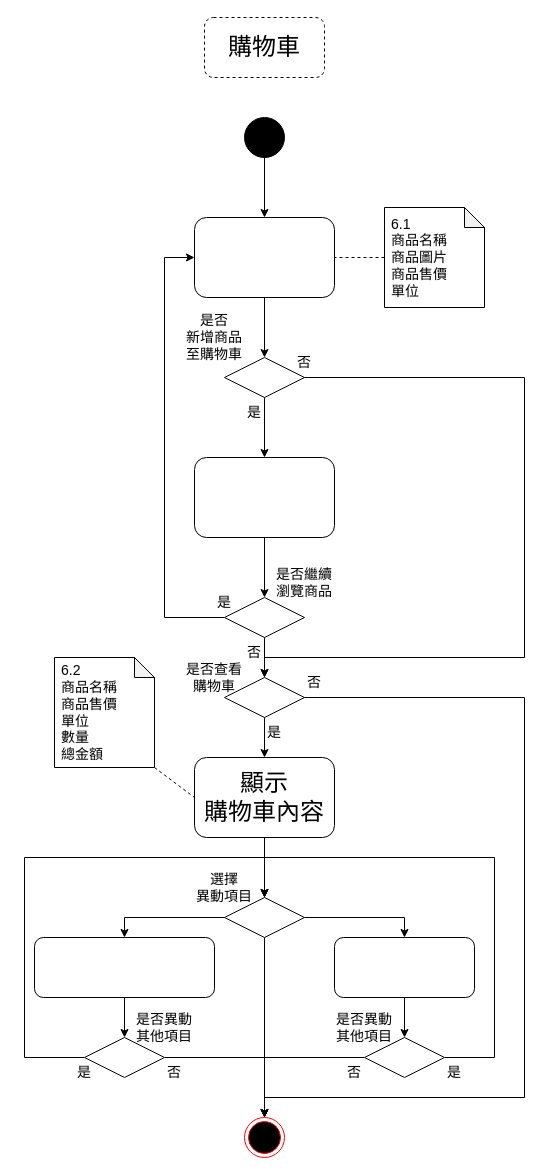
Some shapes in this 550 by 1175 pixel diagram are drawn without their labels. Here are the shapes that lost their labels. From the top down, the centre of each, then its label:
the point at 264,257: 瀏覽商品
the point at 264,497: 新增完成
the point at 124,967: 修改 商品數量
the point at 404,967: 刪除商品
